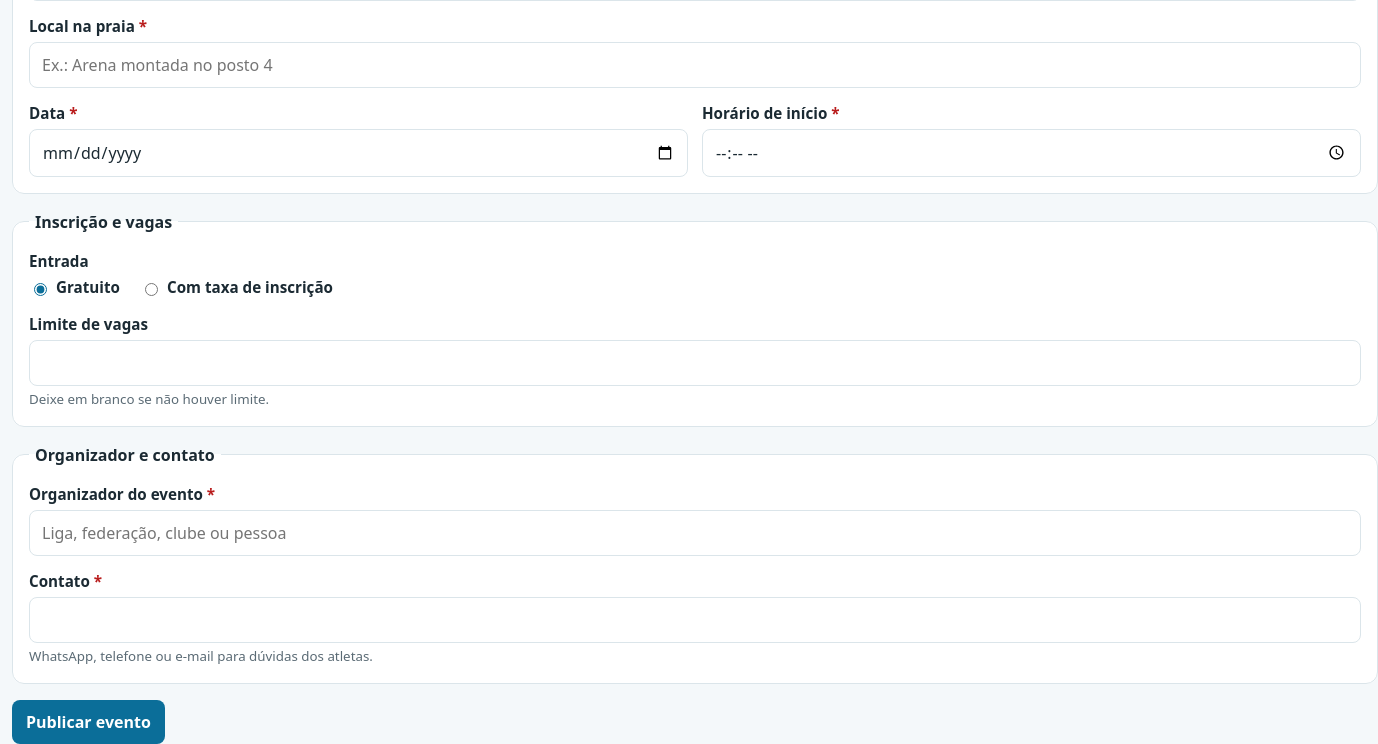
FormularioEvento › não envia sem regulamento e contato
This screenshot has width=1378, height=744.
(page scrolled)
Click the button "Publicar evento" at (88, 722), box 12,700 -> 165,743
(page scrolled)
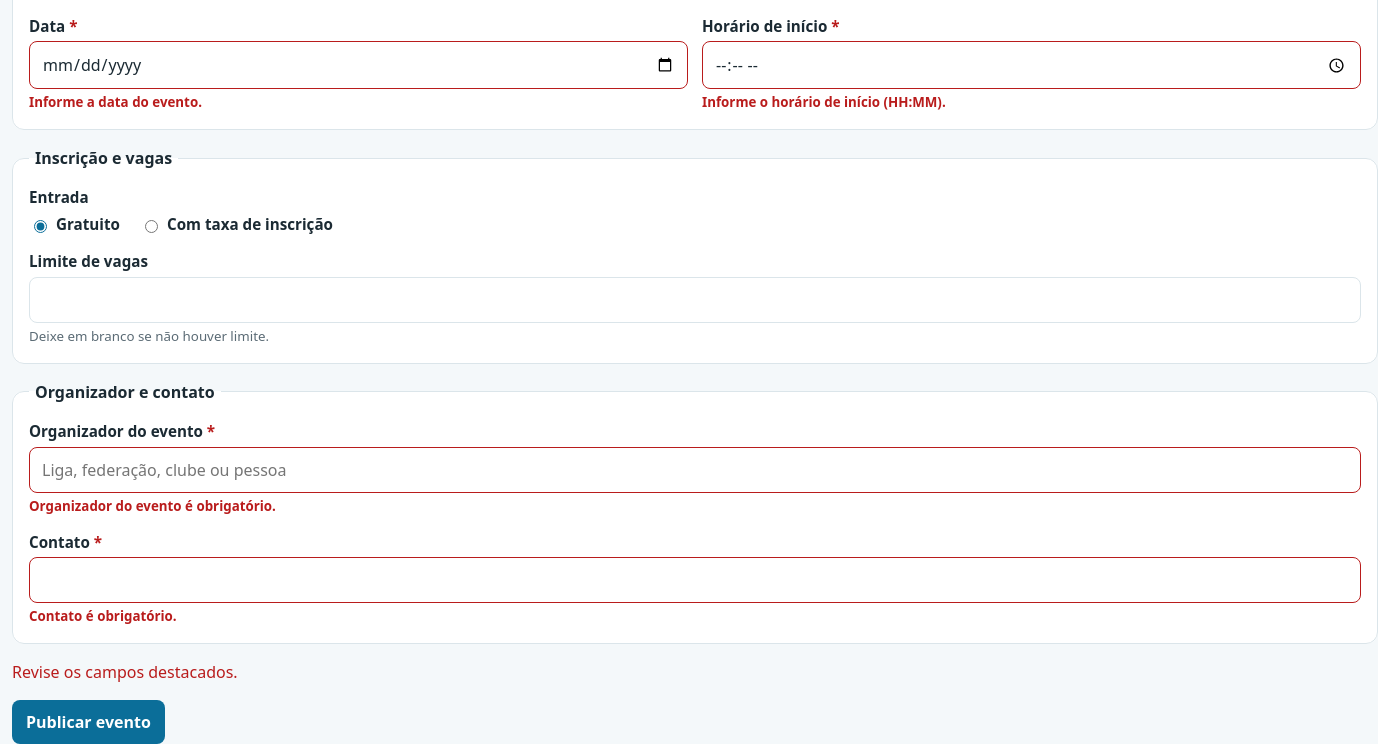
Expected: the text "Contato é obrigatório." is shown, 29,607 -> 177,625
